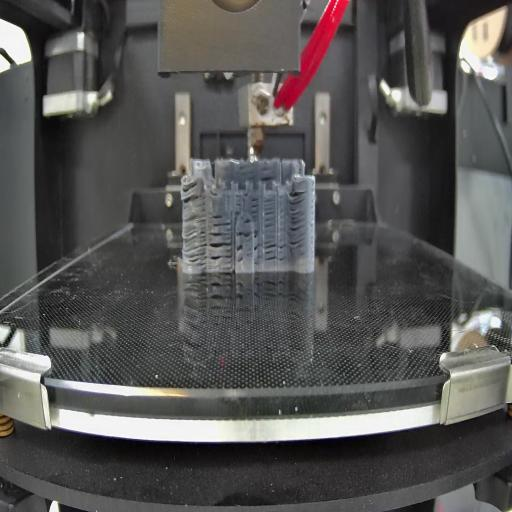cracks: (182, 214, 206, 267), (287, 191, 306, 254), (263, 198, 277, 262), (208, 231, 234, 264), (236, 231, 262, 263), (181, 182, 205, 206), (212, 212, 232, 227), (310, 180, 314, 230), (251, 196, 259, 220), (236, 164, 250, 177), (279, 242, 287, 262), (235, 192, 243, 209), (260, 175, 278, 182), (210, 188, 218, 198), (242, 216, 252, 224)
